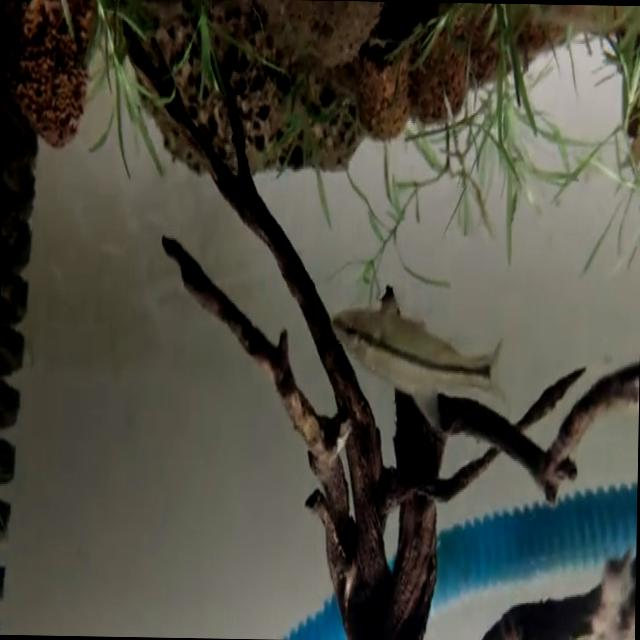Cakil Baligi: (327, 282, 506, 428)
